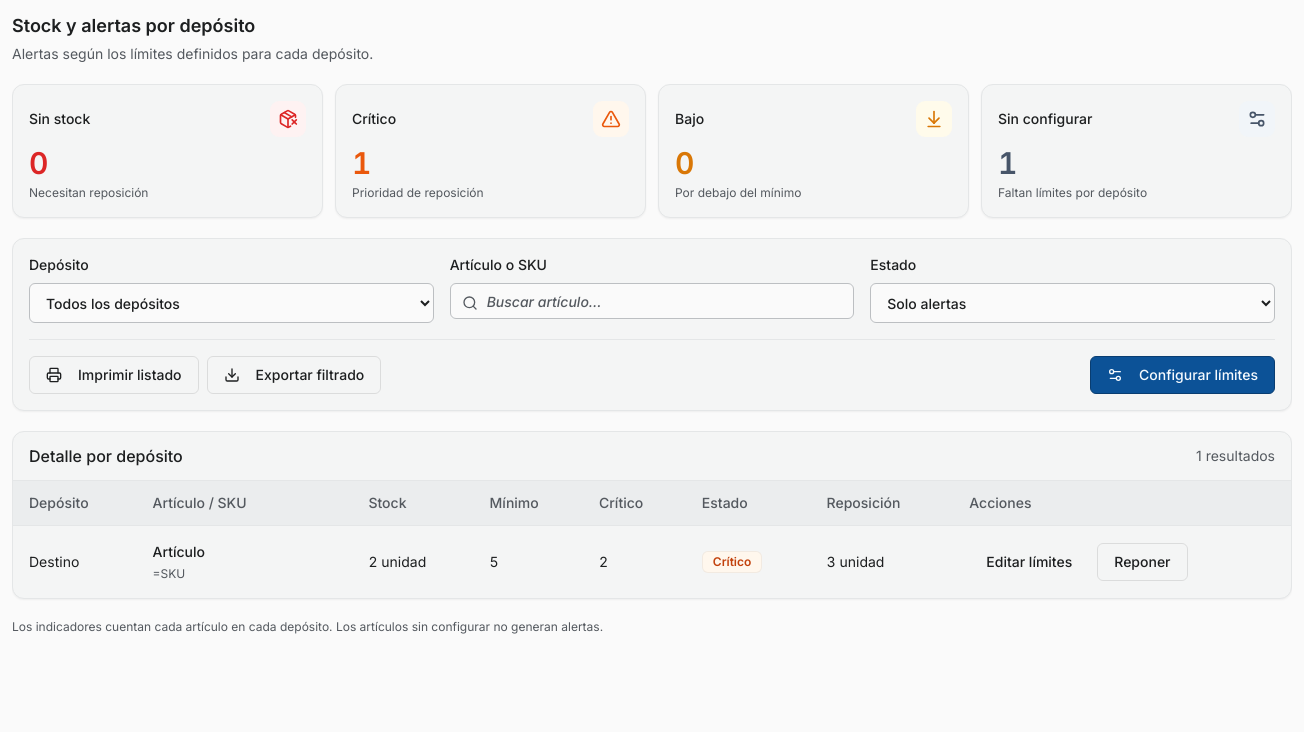
Test: cuenta situaciones configuradas y permite ver ubicaciones sin configuración
This screenshot has width=1304, height=732.
Expected: the button with aria-label "Crítico: 1" is shown, [335,84,646,218]
Expected: the button "Reponer" is shown, [1097,543,1188,581]
Select "Sin alerta configurada" in the dropdown named "Filtrar estado" at (1073, 303), box [870,283,1275,323]
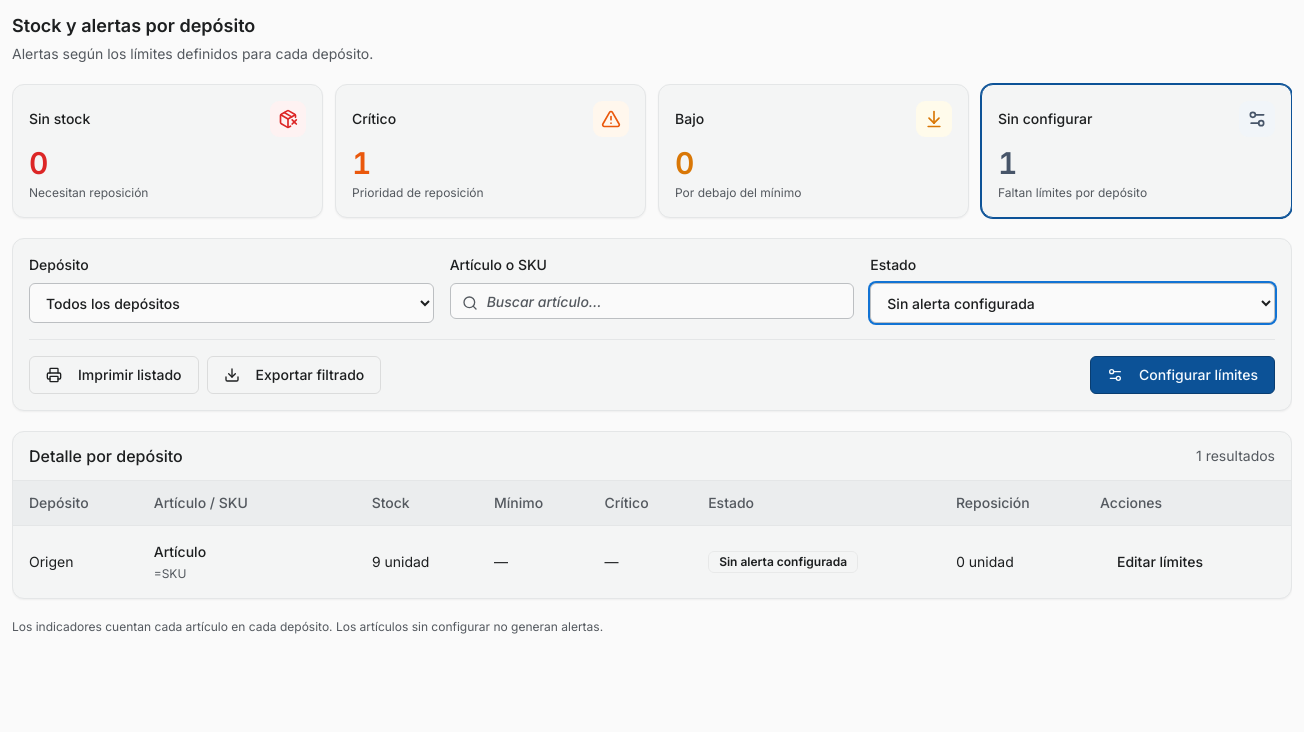
Expected: the cell "Origen" is shown, [13,526,138,598]
Expected: the button "Reponer" is gone
